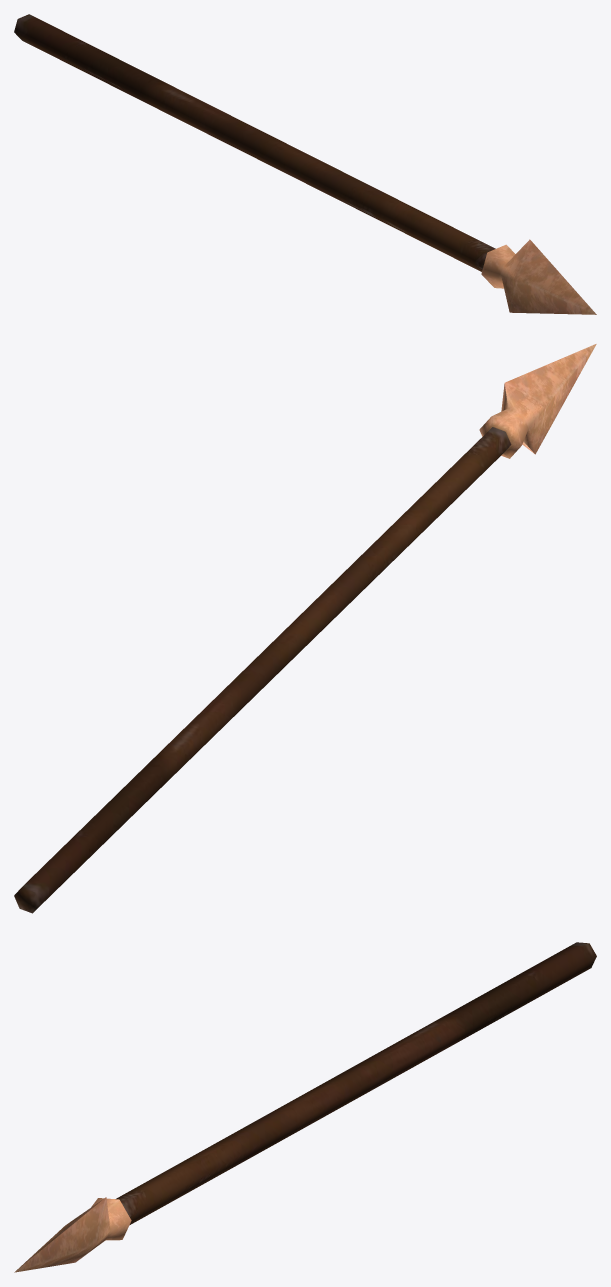
Rendered from weapon-base.glb.
3 renders of one model, top to bottom at view 1: azimuth 30°, elevation 25°; view 2: azimuth 150°, elevation 25°; view 3: azimuth 330°, elevation 25°, orthographic. The views are drawn at different scales.
Bounding box in the file's own units: 0.0877 × 0.2488 × 1.77.
Materials: 1 (1 with a texture image).
